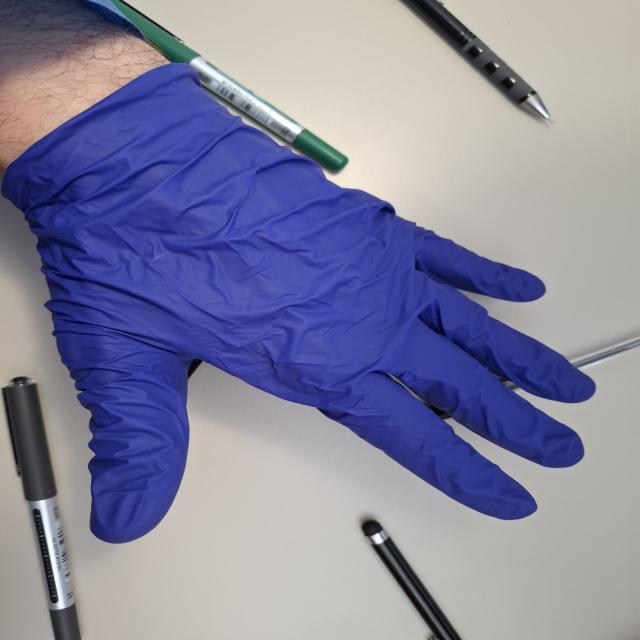glove_on: (7, 62, 604, 546)
